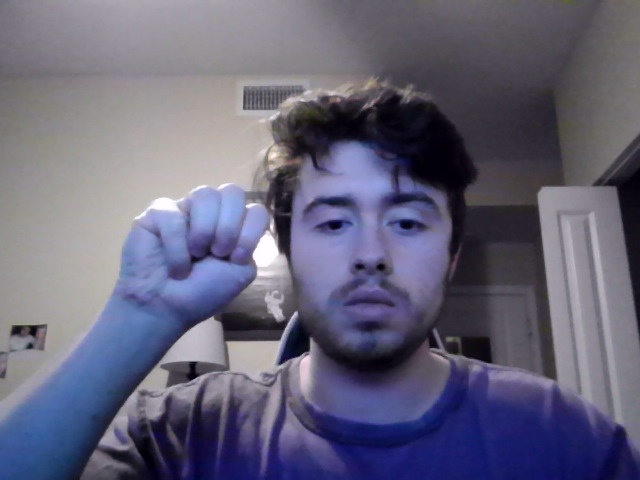m: (115, 182, 271, 352)
